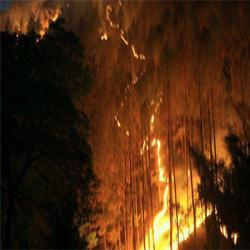fire: (152, 210, 187, 249), (155, 138, 169, 199)
